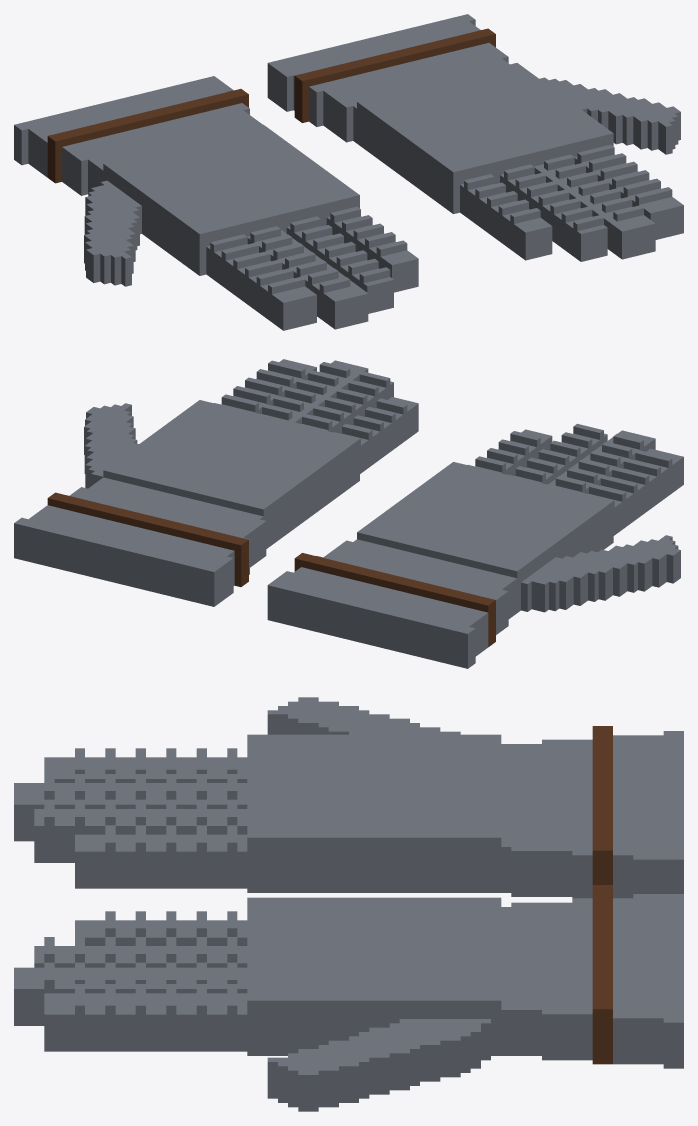
File: ch_chainmail_hands.glb
3 views of the same model, one above another, from view 1: azimuth 30°, elevation 25°; view 2: azimuth 150°, elevation 25°; view 3: azimuth 270°, elevation 25° (orthographic). The views are drawn at different scales.
Parts seen in each view (by area): view 1: ch_chainmail_hands:compound; view 2: ch_chainmail_hands:compound; view 3: ch_chainmail_hands:compound.
Boxes of the visible parts, box(x1,y1,x2,y2) form: ch_chainmail_hands:compound: box(14, 14, 683, 330); ch_chainmail_hands:compound: box(14, 359, 683, 668); ch_chainmail_hands:compound: box(14, 697, 683, 1111).
Size of the model in its own units: 0.352 by 0.024 by 0.264.
